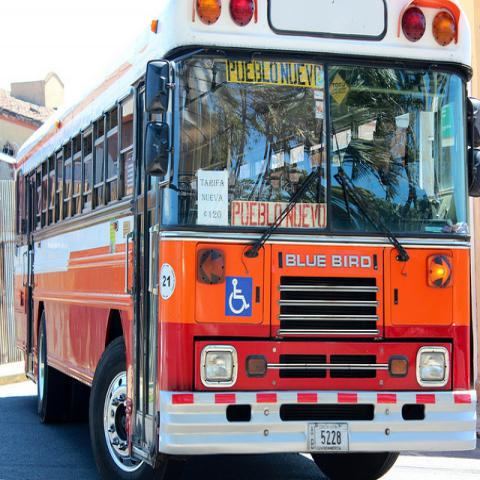bus: (13, 2, 479, 474)
